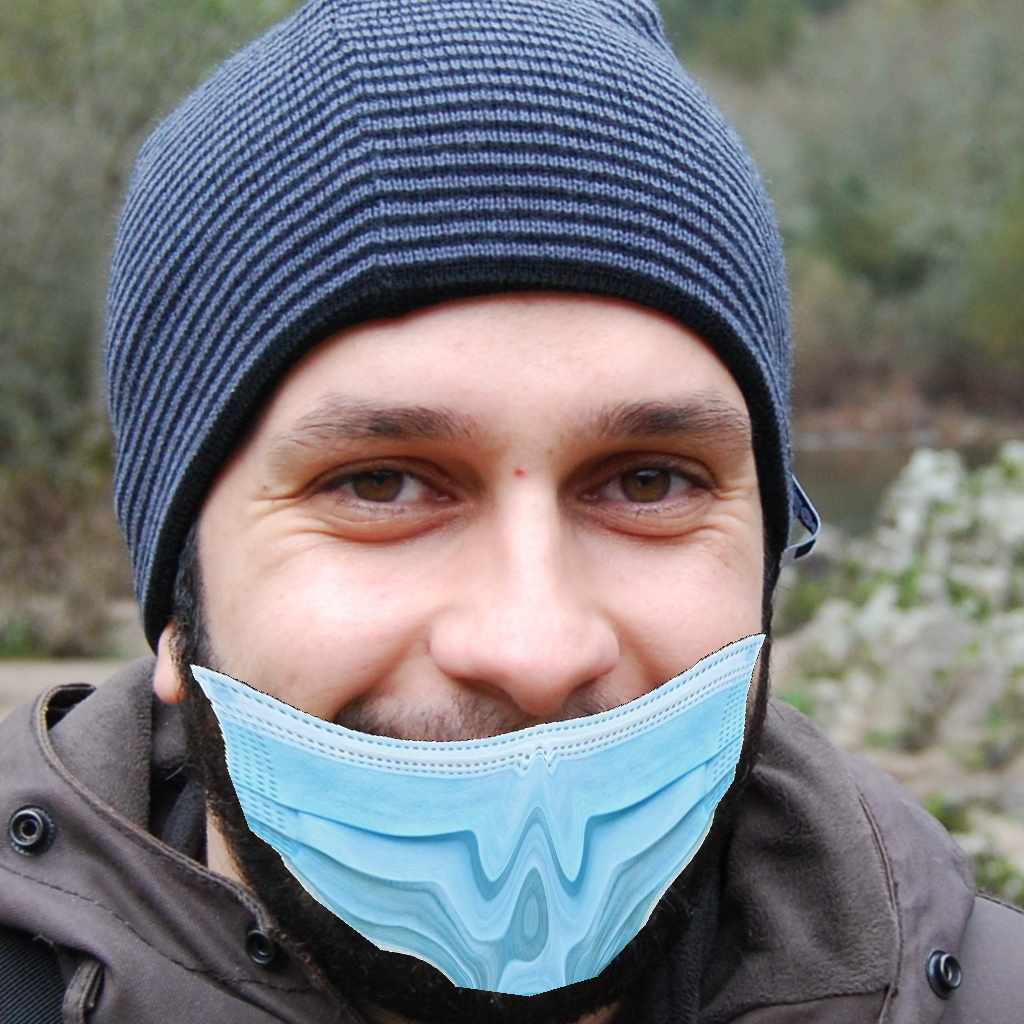mascarilla_mal_puesta: (134, 420, 807, 960)
